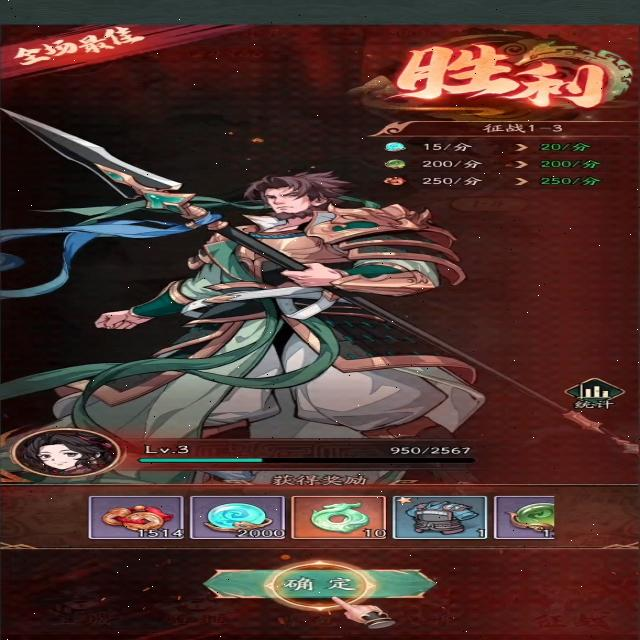hint-guide: (202, 560, 442, 626)
operation-confirm: (205, 567, 434, 601)
